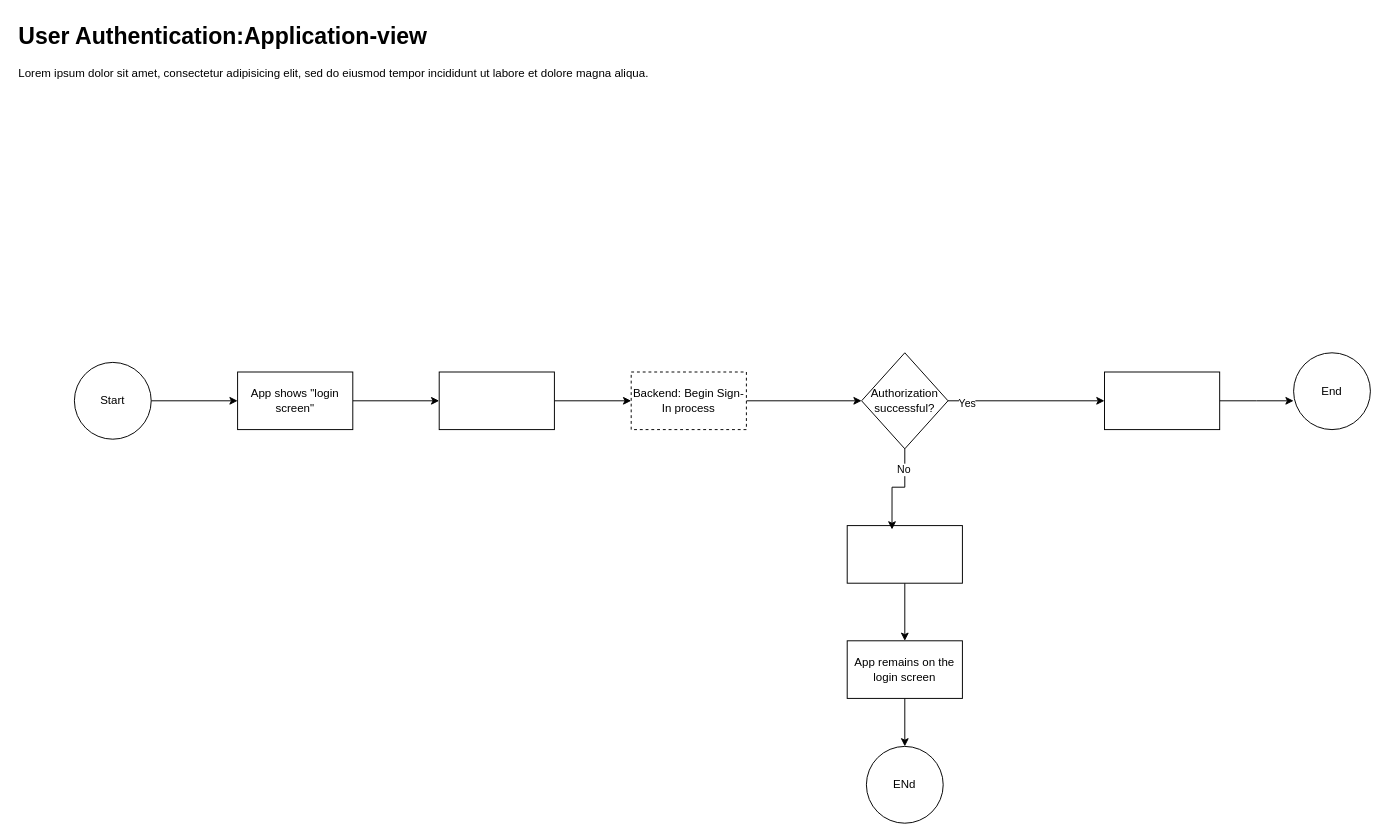
This 1387x840 diagram has some shape labels left out. The centre of each missing label's shape, as x and y in pixels:
App navigates to main gallery: the point at 1162,400
App shows "Error , please try again" message: the point at 904,554
User taps on "Sign in with Google" button: the point at 496,400
